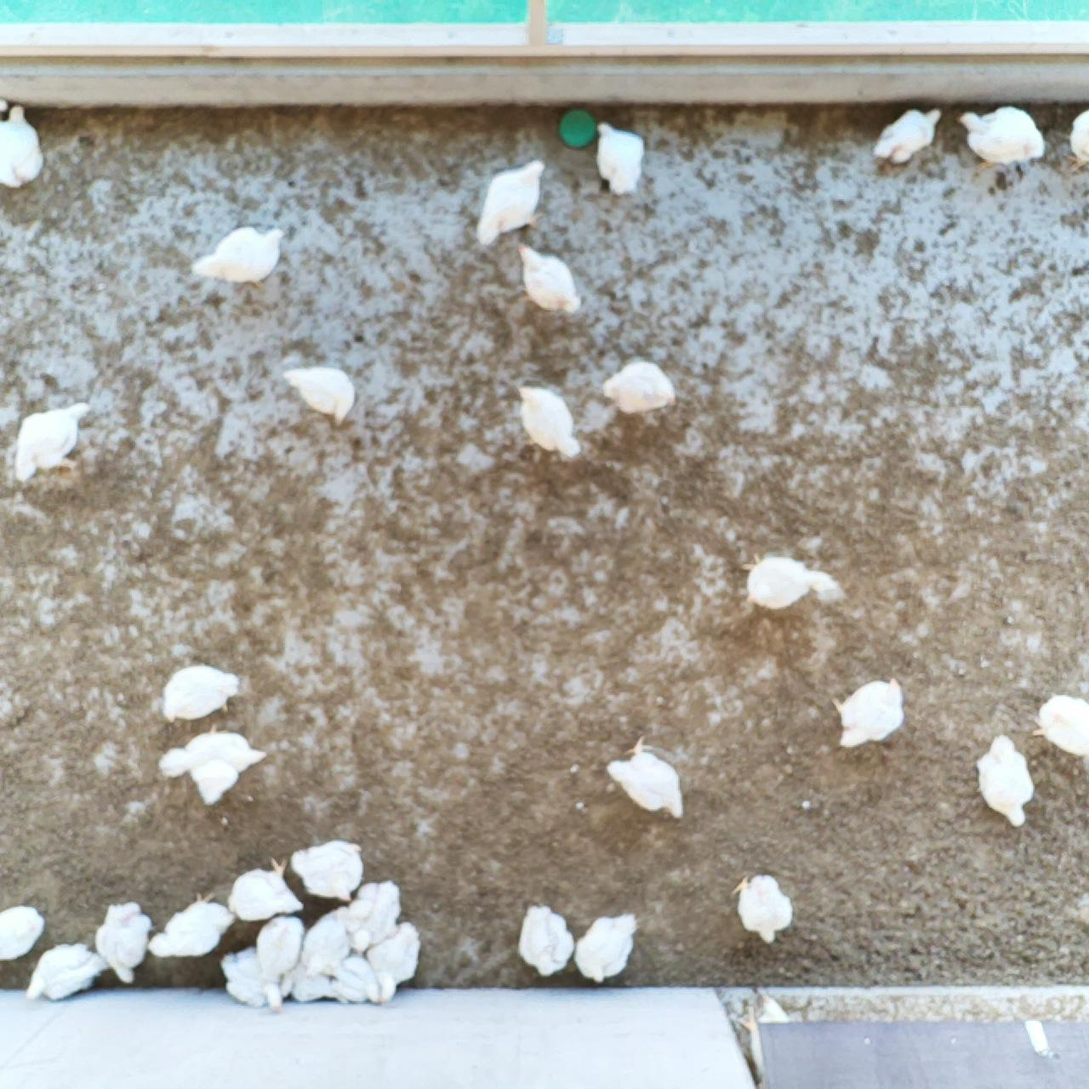chicken: (158, 721, 272, 810), (186, 220, 291, 300), (10, 397, 96, 489), (606, 729, 687, 822), (474, 157, 552, 252), (968, 727, 1037, 832), (952, 102, 1049, 175), (145, 887, 235, 964), (22, 939, 110, 1012), (288, 832, 368, 912), (509, 381, 584, 466), (740, 549, 837, 614), (828, 672, 908, 749), (515, 237, 586, 318), (156, 659, 241, 726), (93, 897, 155, 988), (255, 912, 308, 1018), (228, 854, 309, 922), (361, 920, 426, 1004), (727, 867, 796, 946), (573, 910, 643, 987), (281, 361, 358, 431), (340, 878, 404, 959), (598, 355, 678, 416), (516, 901, 576, 982), (591, 116, 648, 199), (871, 104, 946, 165), (1026, 689, 1089, 761), (0, 107, 49, 193), (299, 909, 353, 981), (215, 941, 267, 1009), (0, 898, 47, 965), (283, 957, 337, 1002), (1061, 104, 1089, 173)
